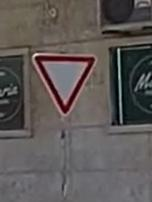cedencia de passagem: (28, 48, 99, 118)
